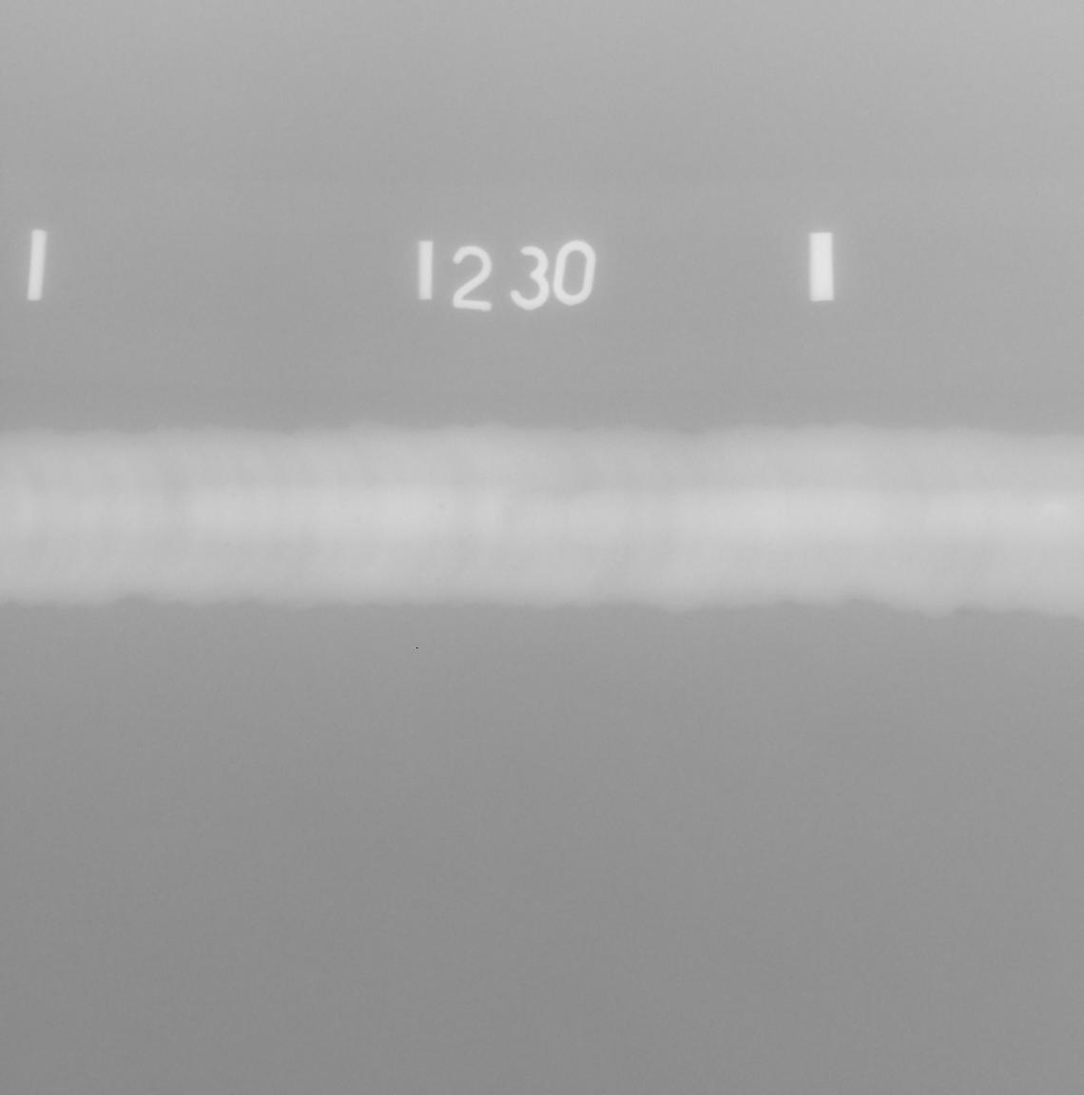Pore/Porosity: (353, 517, 361, 524), (437, 504, 444, 511), (230, 494, 237, 500), (278, 500, 283, 505), (468, 534, 473, 538), (224, 544, 228, 548)
